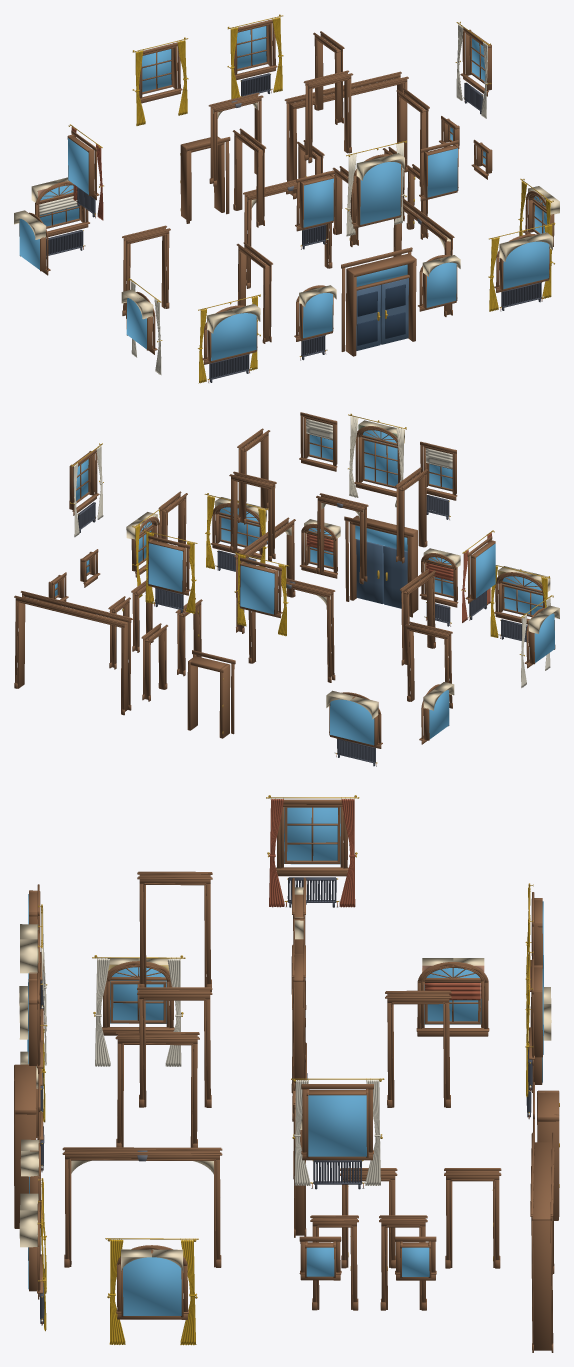
The model's file is Museum_Int_Doors_Windows.fbx.
The picture shows the model from 3 angles, top to bottom: view 1: azimuth 30°, elevation 25°; view 2: azimuth 150°, elevation 25°; view 3: azimuth 270°, elevation 25°; orthographic projection. The views are drawn at different scales.
Parts seen in each view (by area): view 1: Int_Window_Frames, Int_Door_Casings, Int_Window_Glass, Int_Curtains, Int_Radiators; view 2: Int_Window_Frames, Int_Door_Casings, Int_Window_Glass, Int_Curtains, Int_Radiators; view 3: Int_Door_Casings, Int_Window_Frames, Int_Window_Glass, Int_Curtains, Int_Radiators.
Part boxes in pixels (left/top/right/bottom): Int_Window_Frames: left=14, top=19, right=559, bottom=364; Int_Door_Casings: left=122, top=31, right=454, bottom=343; Int_Window_Glass: left=19, top=26, right=549, bottom=360; Int_Curtains: left=39, top=14, right=555, bottom=383; Int_Radiators: left=46, top=73, right=544, bottom=383; Int_Window_Frames: left=48, top=412, right=559, bottom=748; Int_Door_Casings: left=14, top=428, right=452, bottom=715; Int_Window_Glass: left=55, top=430, right=554, bottom=745; Int_Curtains: left=70, top=413, right=553, bottom=687; Int_Radiators: left=77, top=495, right=528, bottom=766; Int_Door_Casings: left=62, top=871, right=554, bottom=1352; Int_Window_Frames: left=14, top=799, right=559, bottom=1319; Int_Window_Glass: left=27, top=807, right=543, bottom=1315; Int_Curtains: left=37, top=795, right=533, bottom=1345; Int_Radiators: left=39, top=877, right=532, bottom=1325.
Bounding box in the file's own units: 16.02 × 7.12 × 12.33.
